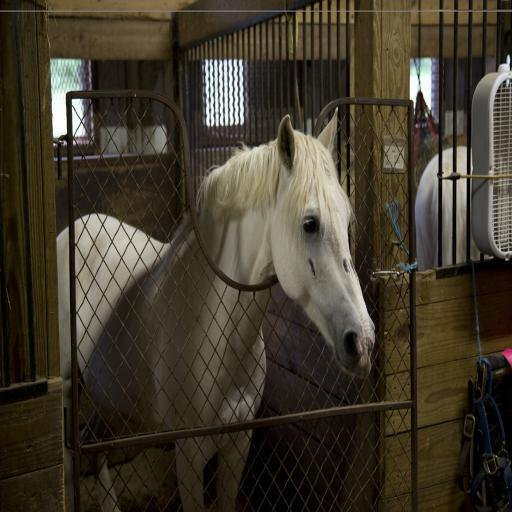horse: (56, 105, 376, 512), (414, 140, 496, 272)
